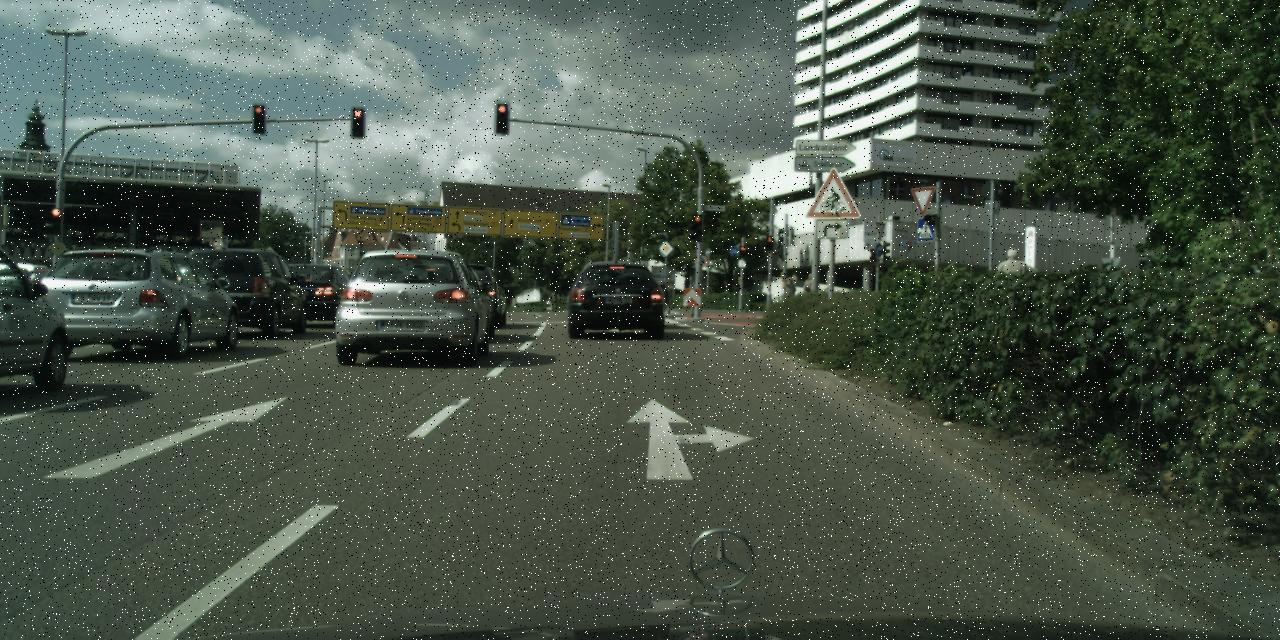ped: (991, 248, 1030, 344), (802, 273, 816, 309), (782, 278, 796, 310)
